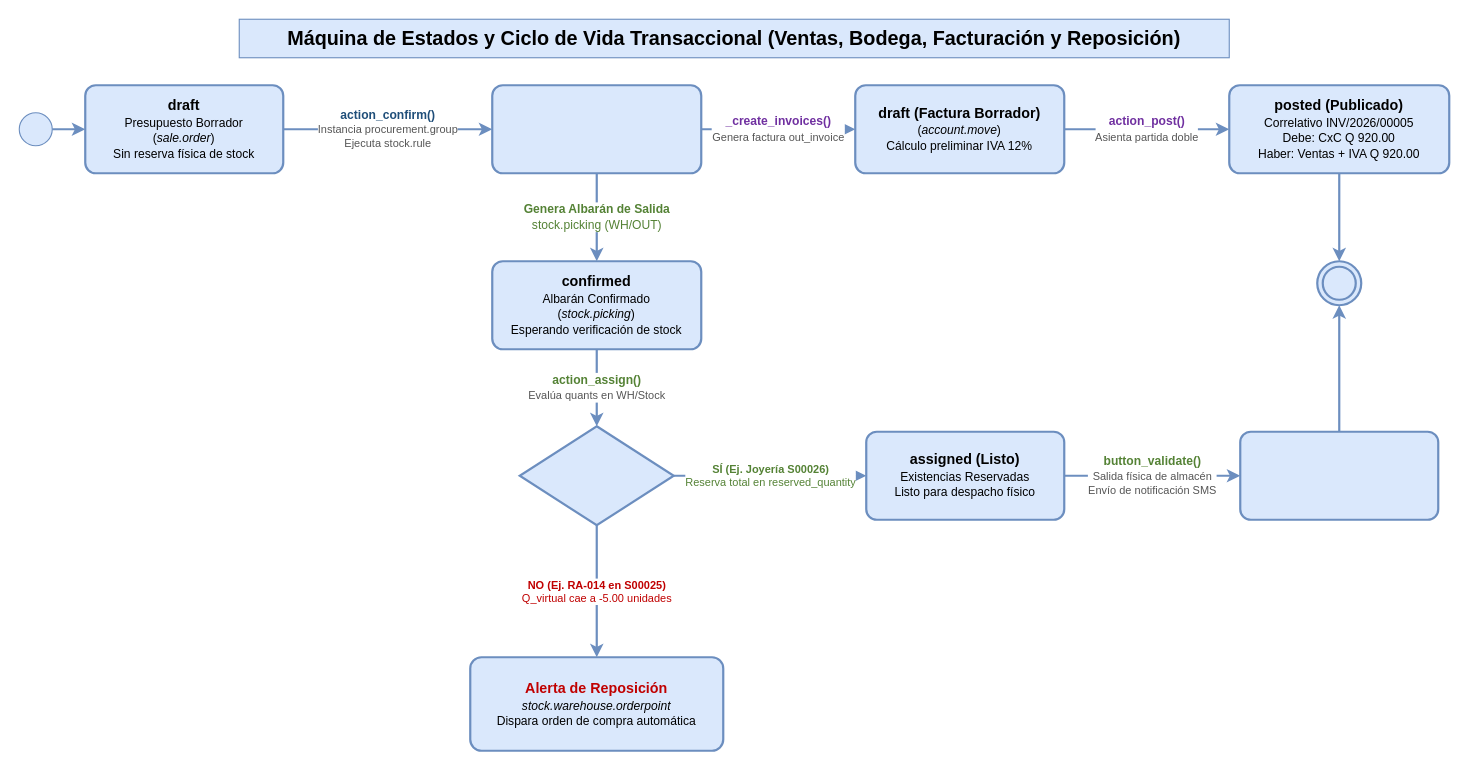
This 1470x771 diagram has some shape labels left out. The centre of each missing label's shape, as x and y in pixels:
"done (Hecho) Traslado Validado Decremento en WH/Stock Incremento en Customers" belongs at [1339,475].
"sale Pedido de Venta Confirmado ( sale.order ) Correlativo formal S00025" belongs at [596,129].
"¿Stock Real ≥ Demanda?" belongs at [596,475].
